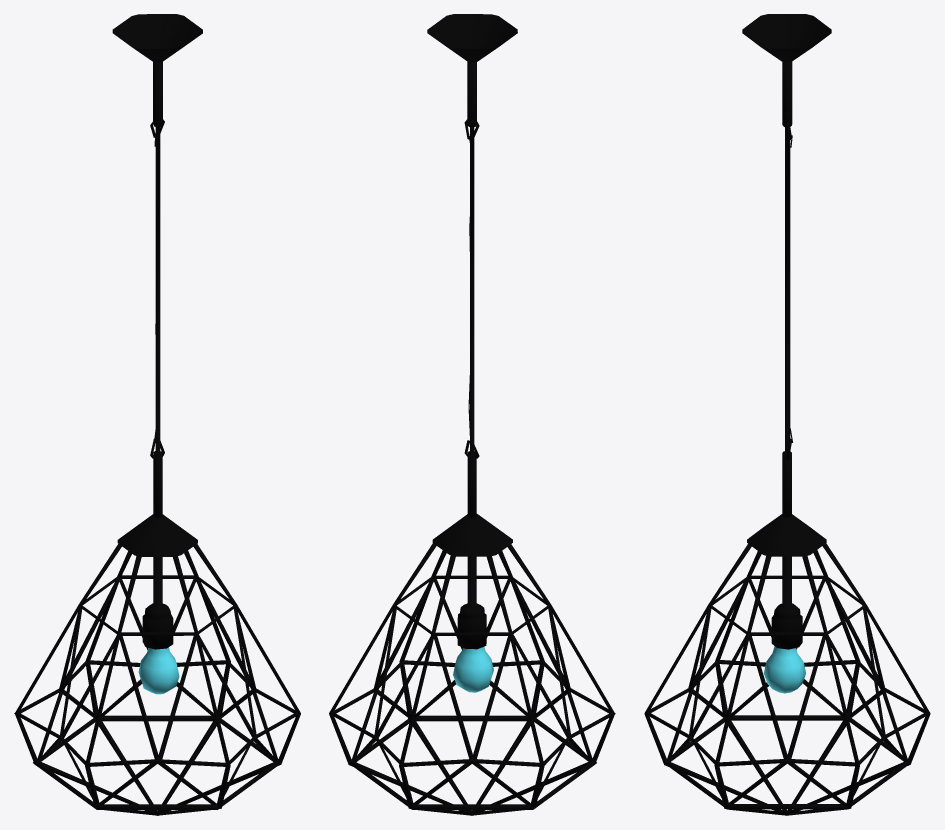
Rendered from SM_Pendantlight_014_C.FBX.
The picture shows the model from 3 angles, left to right: view 1: azimuth 30°, elevation 25°; view 2: azimuth 150°, elevation 25°; view 3: azimuth 270°, elevation 25°; orthographic projection.
Visible parts, largest first — view 1: SM_Pendantlight_014_C; view 2: SM_Pendantlight_014_C; view 3: SM_Pendantlight_014_C.
Part boxes in pixels (x1,y1,x2,y2): SM_Pendantlight_014_C: [14, 14, 300, 815]; SM_Pendantlight_014_C: [329, 14, 615, 815]; SM_Pendantlight_014_C: [644, 14, 930, 815].
Bounding box in the file's own units: 27.58 × 31.66 × 95.61.
